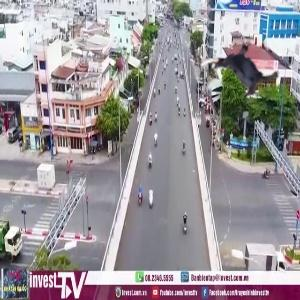drone: (203, 32, 283, 112)
